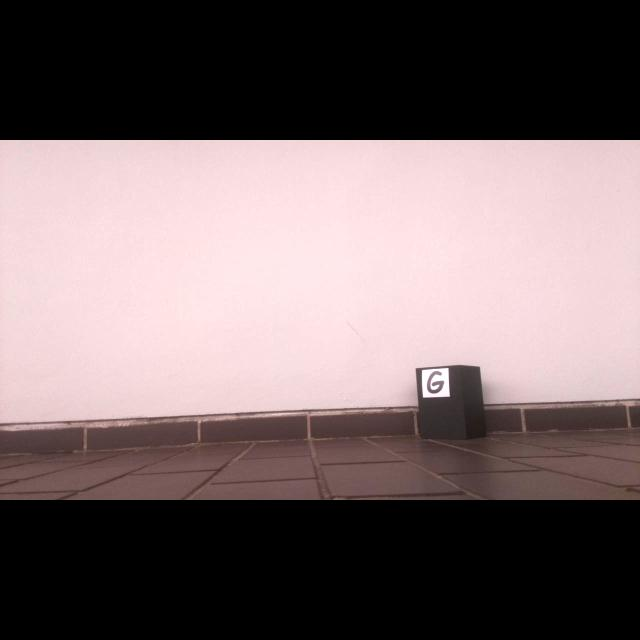G: (427, 371, 444, 393)
